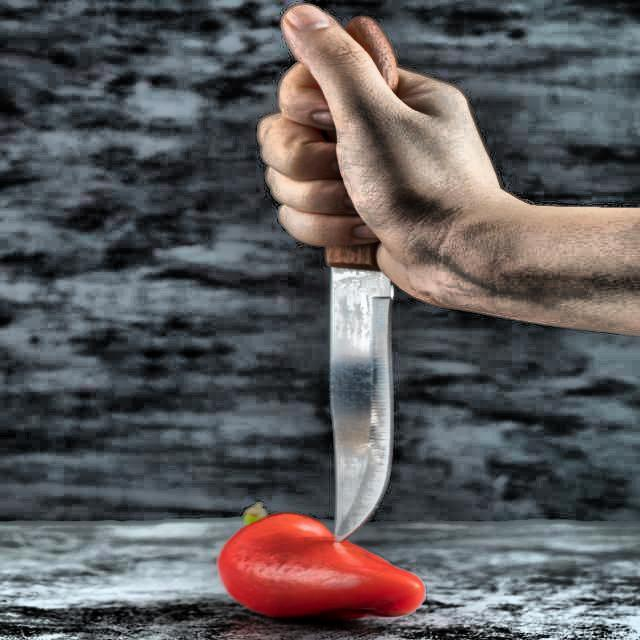knife: (326, 14, 412, 544)
